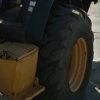Tractor: (9, 2, 100, 97)
